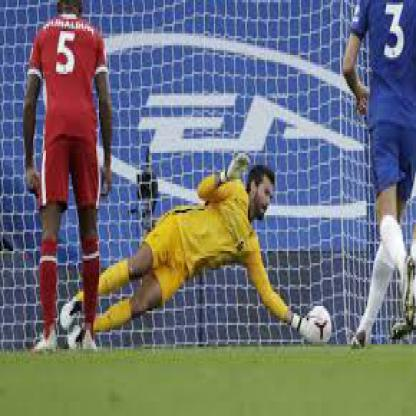goal: (159, 142, 347, 357)
